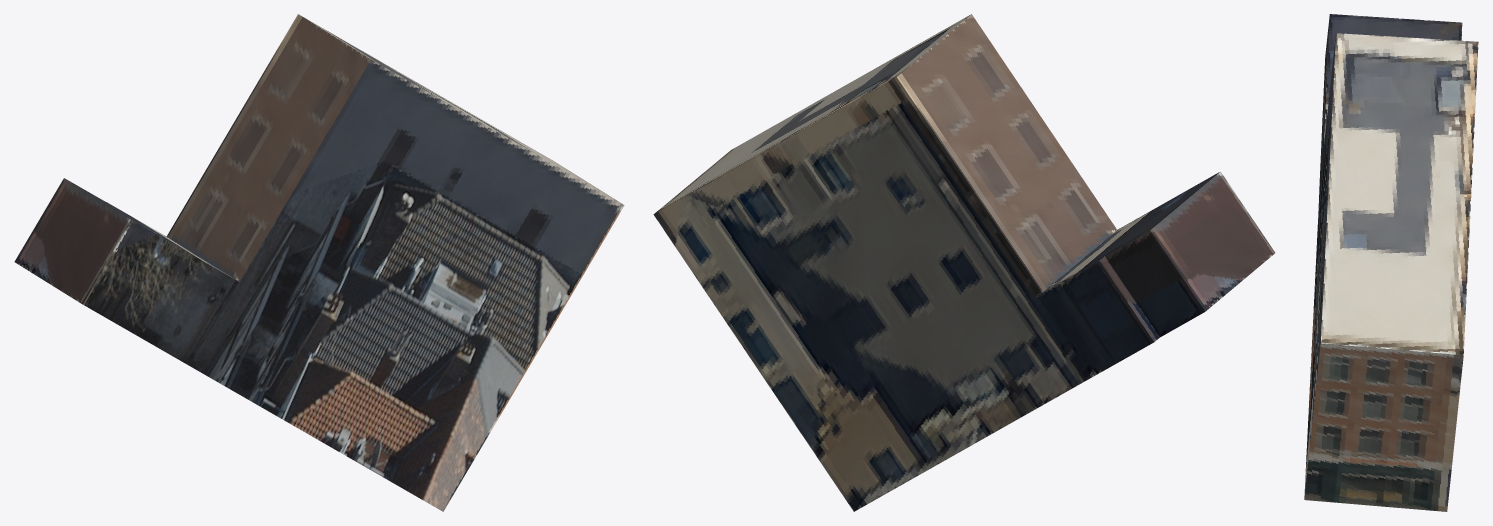
3 views of the same model, side by side, from view 1: azimuth 30°, elevation 25°; view 2: azimuth 150°, elevation 25°; view 3: azimuth 270°, elevation 25° (orthographic). The views are drawn at different scales.
Visible parts, largest first — view 1: BAG_0599100000671694 (×4); view 2: BAG_0599100000671694 (×5); view 3: BAG_0599100000671694 (×4).
Boxes of the visible parts, box(x1,y1,x2,y2) form: BAG_0599100000671694 (×4): box(14, 14, 624, 511); BAG_0599100000671694 (×5): box(653, 14, 1275, 511); BAG_0599100000671694 (×4): box(1304, 14, 1478, 511).
Bounding box in the file's own units: 27.11 × 22.15 × 7.77.
6 materials, 6 textured.
